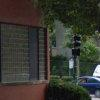Traffic light: (65, 26, 86, 67)
